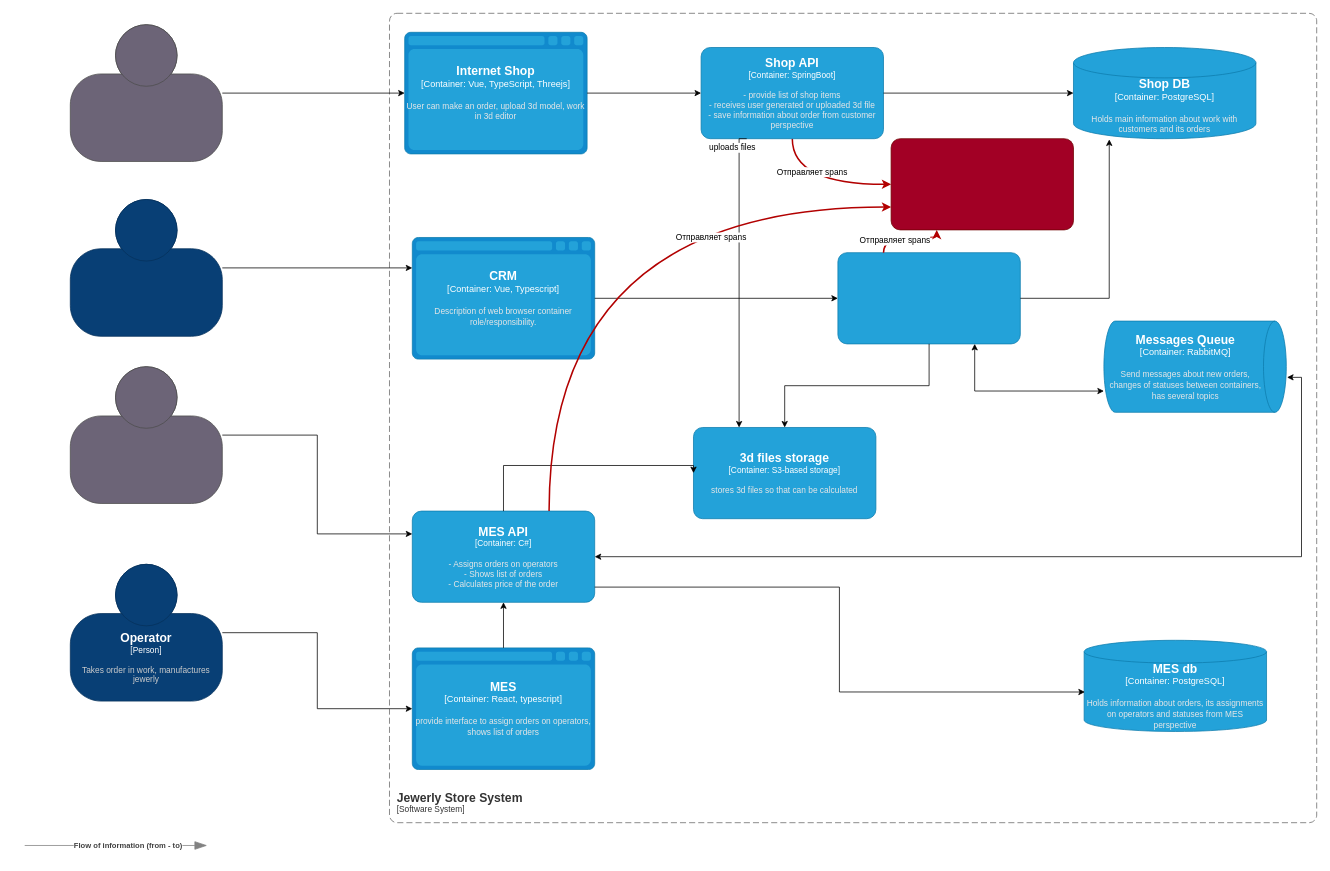
The diagram is 1330 pixels wide and 871 high, and some of its shapes have lost their labels. The centre of each missing label's shape, as x and y in pixels:
"API user [Person] Description of external person." belongs at [146,435].
"CRM API [Container: SpringBoot] Description of container role/responsibility." belongs at [928,298].
"Customer [Person] Description of external person." belongs at [146,93].
"Jaeger [Container: ] All-in-One" belongs at [982,184].
"Seller [Person] Operates with order, confirms manufacturing for the user" belongs at [146,267].
